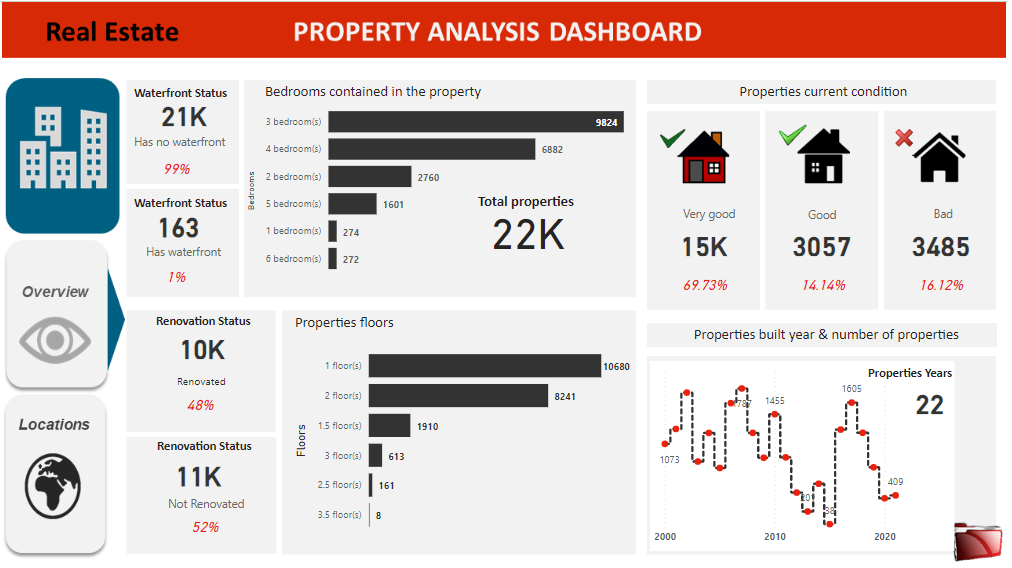

The page's visual inventory and layout, read from the dashboard file:
{"tool":"powerbi","page":{"name":"Overview","canvas":[1280,720],"ordinal":0},"visuals":[{"type":"textbox","box":[330.2,96.4,340.2,39.7],"z":0},{"type":"barChart","fields":{"Category":["Dim_Bedrooms.Bedrooms"],"Y":["Measures Table.Total properties"]},"box":[307.6,112,497.5,248],"z":1000},{"type":"textbox","box":[600.9,236.7,157.3,41.1],"z":2000},{"type":"card","fields":{"Values":["Measures Table.Total properties"]},"box":[582.5,236.7,175.7,103.5],"z":3000},{"type":"card","fields":{"Values":["Measures Table.Waterfront No"]},"box":[163,121.9,137.5,41.1],"z":4000},{"type":"card","fields":{"Values":["Measures Table.Waterfront Yes"]},"box":[178.6,260.8,92.1,46.8],"z":5000},{"type":"textbox","box":[163,100.6,137.5,29.8],"z":6000},{"type":"textbox","box":[163,240.9,137.5,29.8],"z":7000},{"type":"textbox","box":[163,163,137.5,29.8],"z":8000},{"type":"card","fields":{"Values":["Measures Table.Waterfront No%"]},"box":[185.7,188.5,70.9,48.2],"z":9000},{"type":"card","fields":{"Values":["Measures Table.Waterfront Yes%"]},"box":[197,330.2,46.8,41.1],"z":10000},{"type":"textbox","box":[178.6,303.3,117.6,29.8],"z":11000},{"type":"textbox","box":[191.3,391.2,153.1,29.8],"z":12000},{"type":"textbox","box":[218.3,469.1,80.8,29.8],"z":13000},{"type":"textbox","box":[192.8,549.9,151.7,29.8],"z":14000},{"type":"textbox","box":[206.9,625,123.3,29.8],"z":15000},{"type":"card","fields":{"Values":["Measures Table.Renovated"]},"box":[185.7,419.6,137.5,41.1],"z":16000},{"type":"card","fields":{"Values":["Measures Table.Renovated%"]},"box":[216.9,489,70.9,48.2],"z":17000},{"type":"card","fields":{"Values":["Measures Table.Not Renovated"]},"box":[204.2,578.3,92.1,46.8],"z":18000},{"type":"card","fields":{"Values":["Measures Table.Not Renovated%"]},"box":[233.9,649.1,46.8,41.1],"z":19000},{"type":"textbox","box":[368.5,391.2,286.3,39.7],"z":20000},{"type":"barChart","fields":{"Category":["Dim_Floors.Floors"],"Y":["Measures Table.Total properties"]},"box":[368.5,420.9,436.5,269.3],"z":21000},{"type":"card","fields":{"Values":["Measures Table.Very Good"]},"box":[826.3,287.7,137.5,41.1],"z":22000},{"type":"card","fields":{"Values":["Measures Table.Good"]},"box":[976.5,287.7,137.5,41.1],"z":23000},{"type":"card","fields":{"Values":["Measures Table.Bad"]},"box":[1132.4,287.7,127.6,41.1],"z":24000},{"type":"card","fields":{"Values":["Measures Table.Very Good%"]},"box":[857.5,335.9,75.1,48.2],"z":25000},{"type":"card","fields":{"Values":["Measures Table.Good%"]},"box":[1007.7,335.9,75.1,48.2],"z":26000},{"type":"card","fields":{"Values":["Measures Table.Bad%"]},"box":[1158,335.9,75.1,48.2],"z":27000},{"type":"textbox","box":[841.9,255.1,117.6,29.8],"z":28000},{"type":"textbox","box":[986.5,256.5,117.6,29.8],"z":29000},{"type":"textbox","box":[1140.9,255.1,117.6,29.8],"z":30000},{"type":"textbox","box":[857.5,406.8,385.5,43.9],"z":31000},{"type":"textbox","box":[853.2,96.4,385.5,43.9],"z":32000},{"type":"lineChart","fields":{"Y":["Measures Table.Total properties"],"Category":["FactTable.yr_built"]},"box":[826.3,457.8,388.3,242.4],"z":33000},{"type":"textbox","box":[1098.4,457.8,133.2,29.8],"z":34000},{"type":"card","fields":{"Values":["Measures Table.Properties years"]},"box":[1131,489,100.6,41.1],"z":35000},{"type":"actionButton","box":[1214.6,661.9,65.2,48.2],"z":36000},{"type":"shape","box":[26.9,569.8,76.5,92.1],"z":41002}]}

Visuals, with their boxes in screenshot pixels (x1, y1, x2, y2), scaled from the page's 1280x720 canvas onto the 1012x568 screenshot:
textbox: (261, 76, 530, 107)
barChart - Dim_Bedrooms.Bedrooms x Measures Table.Total properties: (243, 88, 637, 284)
textbox: (475, 187, 599, 219)
card - Measures Table.Total properties: (461, 187, 599, 268)
card - Measures Table.Waterfront No: (129, 96, 238, 129)
card - Measures Table.Waterfront Yes: (141, 206, 214, 243)
textbox: (129, 79, 238, 103)
textbox: (129, 190, 238, 214)
textbox: (129, 129, 238, 152)
card - Measures Table.Waterfront No%: (147, 149, 203, 187)
card - Measures Table.Waterfront Yes%: (156, 260, 193, 293)
textbox: (141, 239, 234, 263)
textbox: (151, 309, 272, 332)
textbox: (173, 370, 236, 394)
textbox: (152, 434, 272, 457)
textbox: (164, 493, 261, 517)
card - Measures Table.Renovated: (147, 331, 256, 363)
card - Measures Table.Renovated%: (171, 386, 228, 424)
card - Measures Table.Not Renovated: (161, 456, 234, 493)
card - Measures Table.Not Renovated%: (185, 512, 222, 544)
textbox: (291, 309, 518, 340)
barChart - Dim_Floors.Floors x Measures Table.Total properties: (291, 332, 636, 544)
card - Measures Table.Very Good: (653, 227, 762, 259)
card - Measures Table.Good: (772, 227, 881, 259)
card - Measures Table.Bad: (895, 227, 996, 259)
card - Measures Table.Very Good%: (678, 265, 737, 303)
card - Measures Table.Good%: (797, 265, 856, 303)
card - Measures Table.Bad%: (916, 265, 975, 303)
textbox: (666, 201, 759, 225)
textbox: (780, 202, 873, 226)
textbox: (902, 201, 995, 225)
textbox: (678, 321, 983, 356)
textbox: (675, 76, 979, 111)
lineChart - Measures Table.Total properties x FactTable.yr_built: (653, 361, 960, 552)
textbox: (868, 361, 974, 385)
card - Measures Table.Properties years: (894, 386, 974, 418)
actionButton: (960, 522, 1011, 560)
shape: (21, 450, 82, 522)
